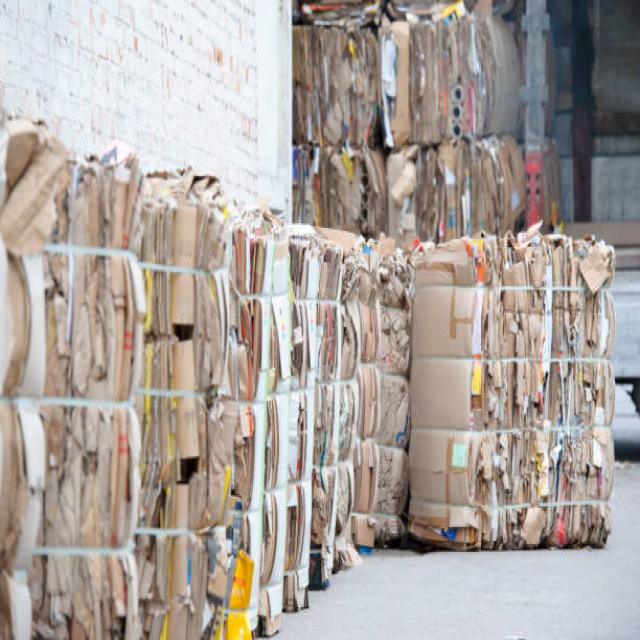cardboard: (3, 115, 616, 621)
